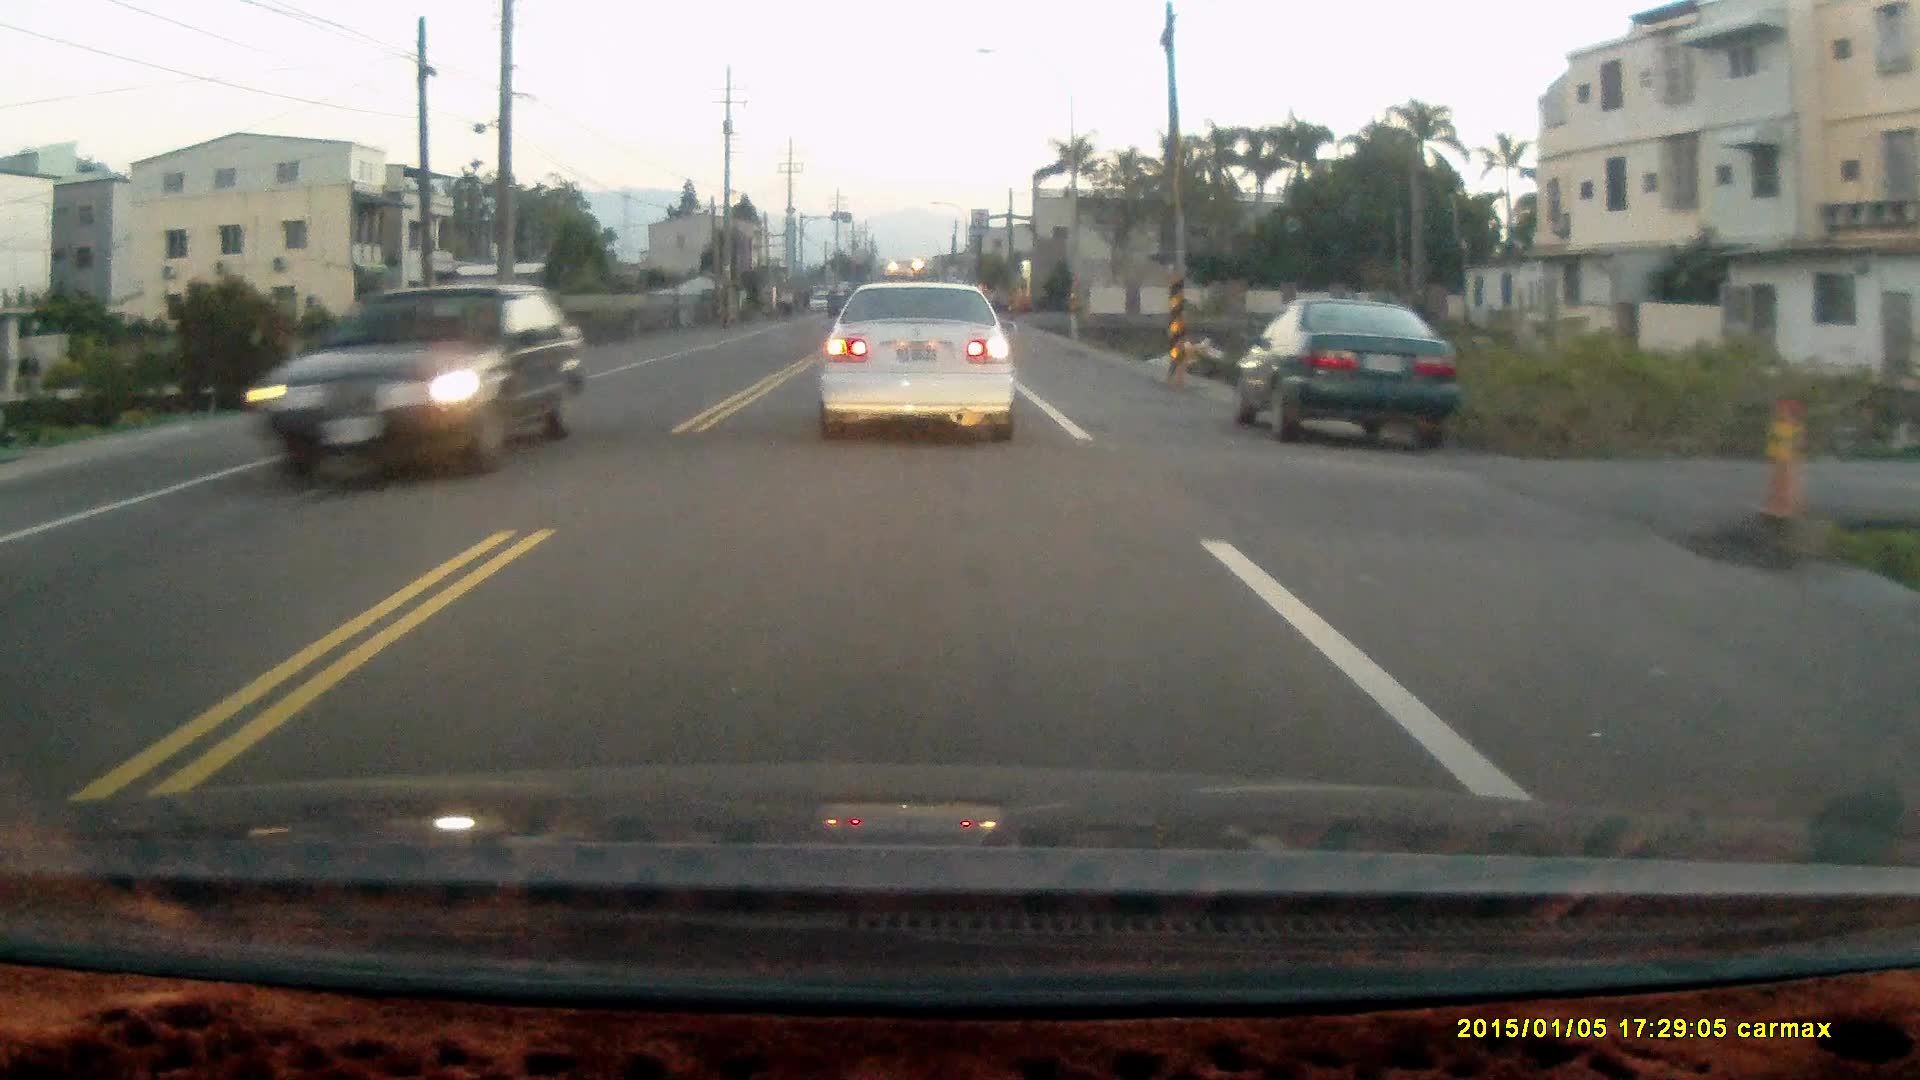vehicle: (245, 278, 589, 489), (1237, 295, 1462, 450), (818, 280, 1017, 446)
